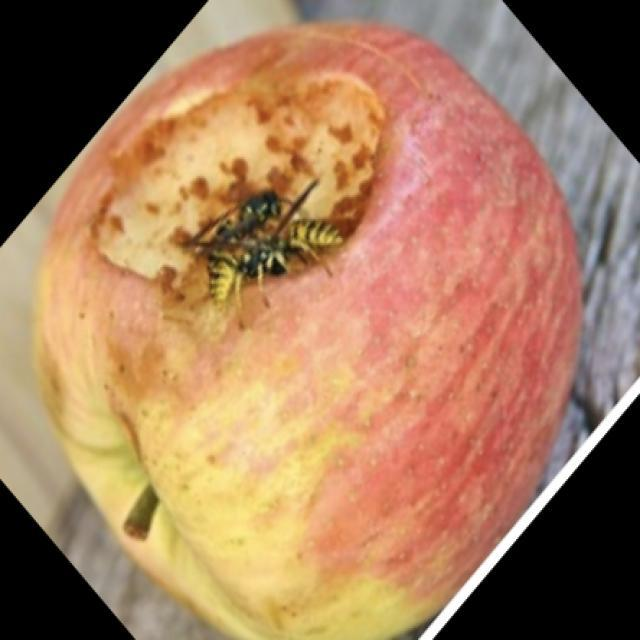Rotten: (31, 26, 579, 640)
